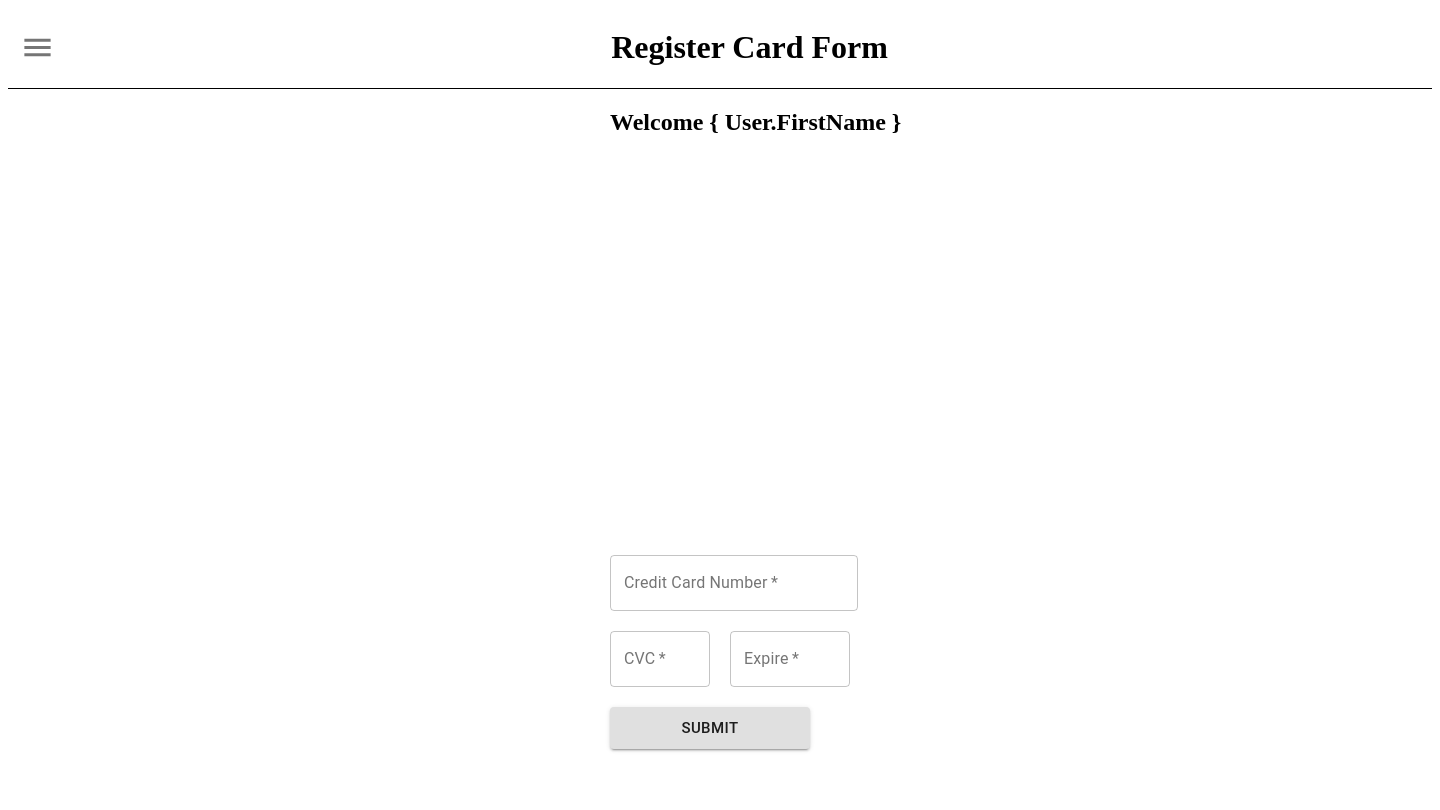
render when hamburgur button click
Click the button with test id "HamburgerButton" at coordinates (38, 48), box x1=8 y1=8 x2=67 y2=88
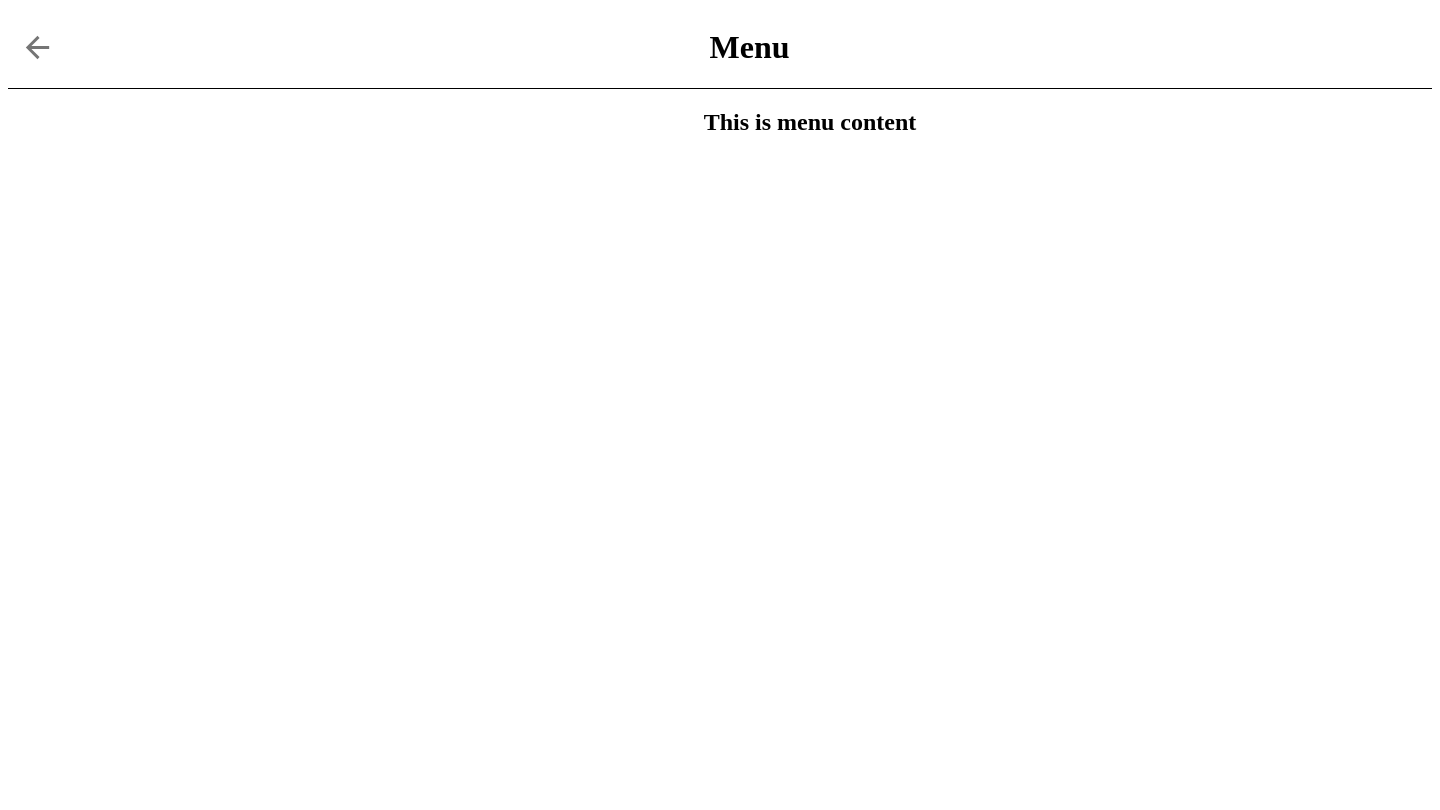
Expected: the heading "Menu" is shown, x1=710 y1=29 x2=790 y2=66
